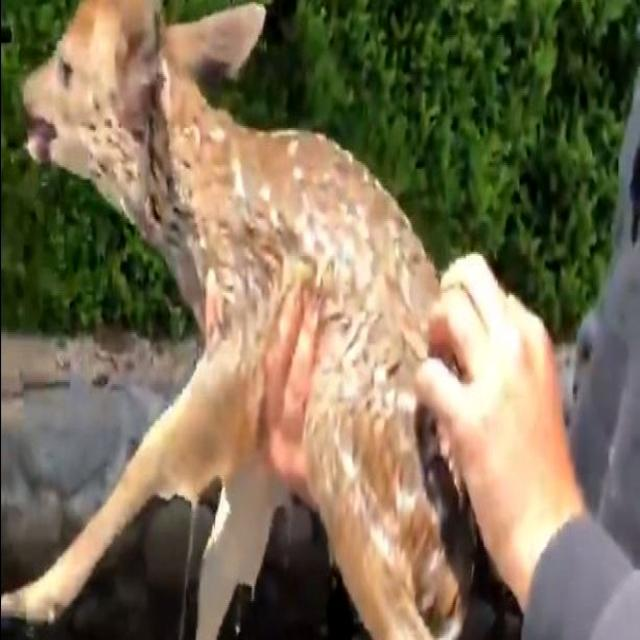deer: (19, 6, 278, 232)
